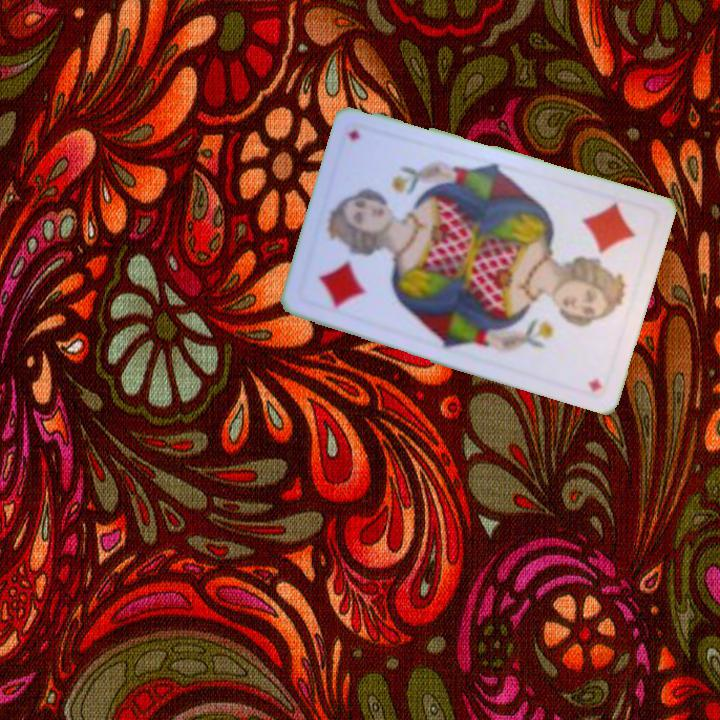d_q.png: (296, 209, 406, 328), (549, 187, 659, 306)
